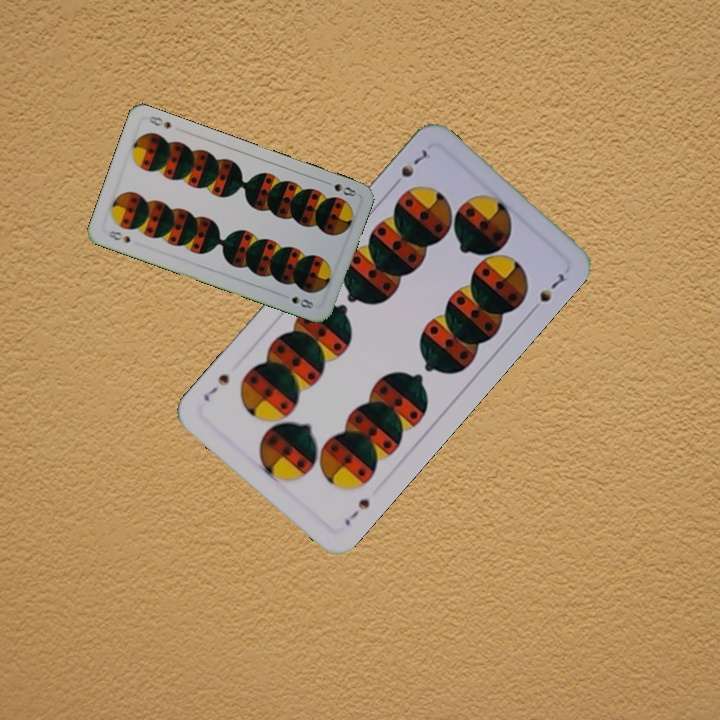S7: (387, 145, 431, 191), (340, 494, 373, 529)
S8: (320, 177, 359, 199), (103, 225, 133, 246)
